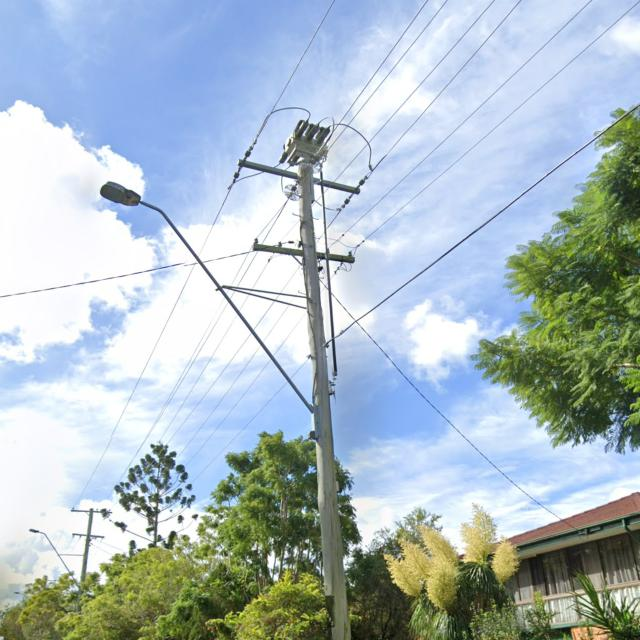HV-switch: (280, 118, 336, 168)
HV-transmission: (229, 136, 368, 213), (69, 506, 112, 514)
crossarm: (236, 159, 362, 195), (251, 242, 356, 268), (72, 533, 104, 539), (71, 510, 112, 513)
streetlight: (98, 181, 316, 416), (29, 527, 85, 591)
timber-pole: (298, 158, 352, 638), (82, 506, 95, 585)
